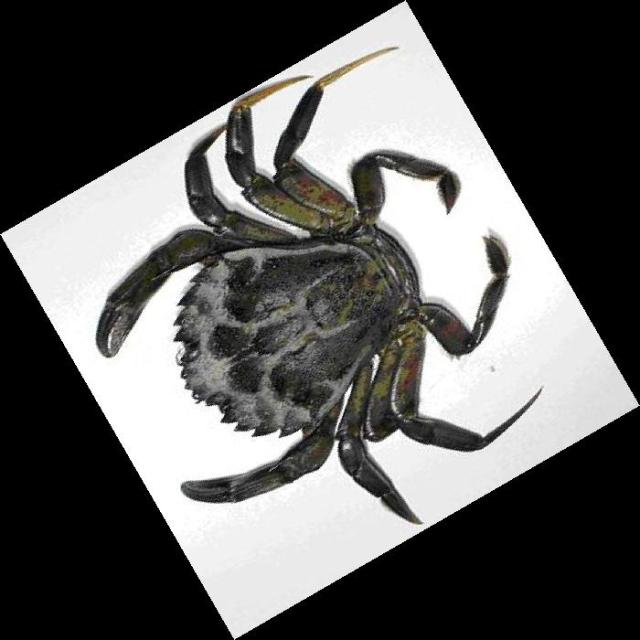European Green crab: (96, 48, 540, 523)
